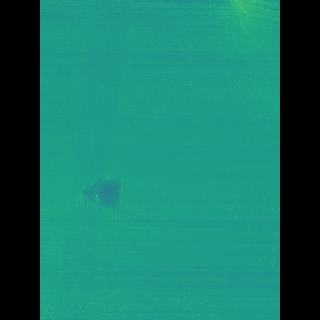Loch: (98, 168, 138, 228)
